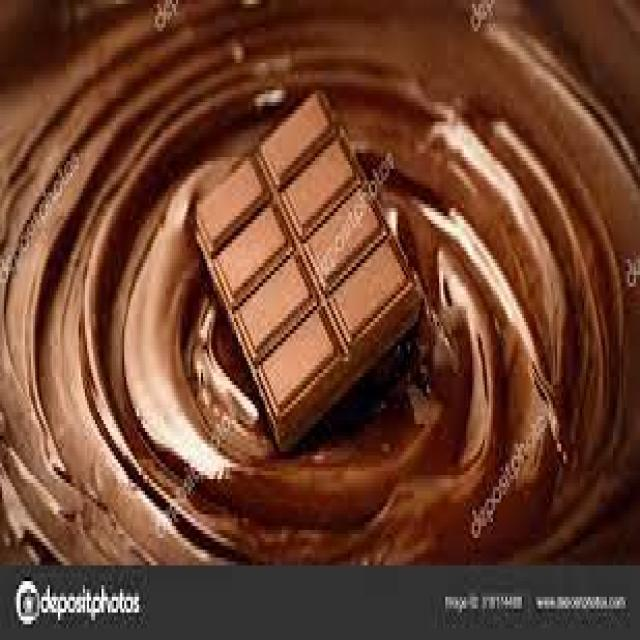Chocolate: (192, 87, 423, 456)
